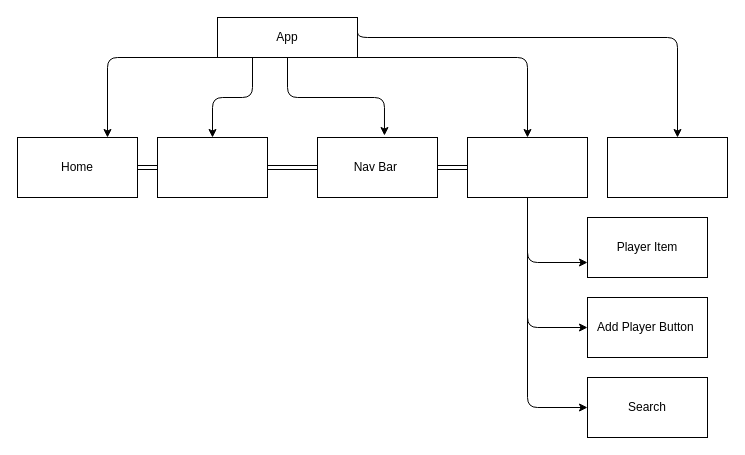
Some shapes in this 745 by 455 pixel diagram are drawn without their labels. Here are the shapes that lost their labels. From the top down, the centre of each, then its label:
At (x=212, y=167): "Add Player".
At (x=527, y=167): "Player Container".
At (x=667, y=167): "Player".
